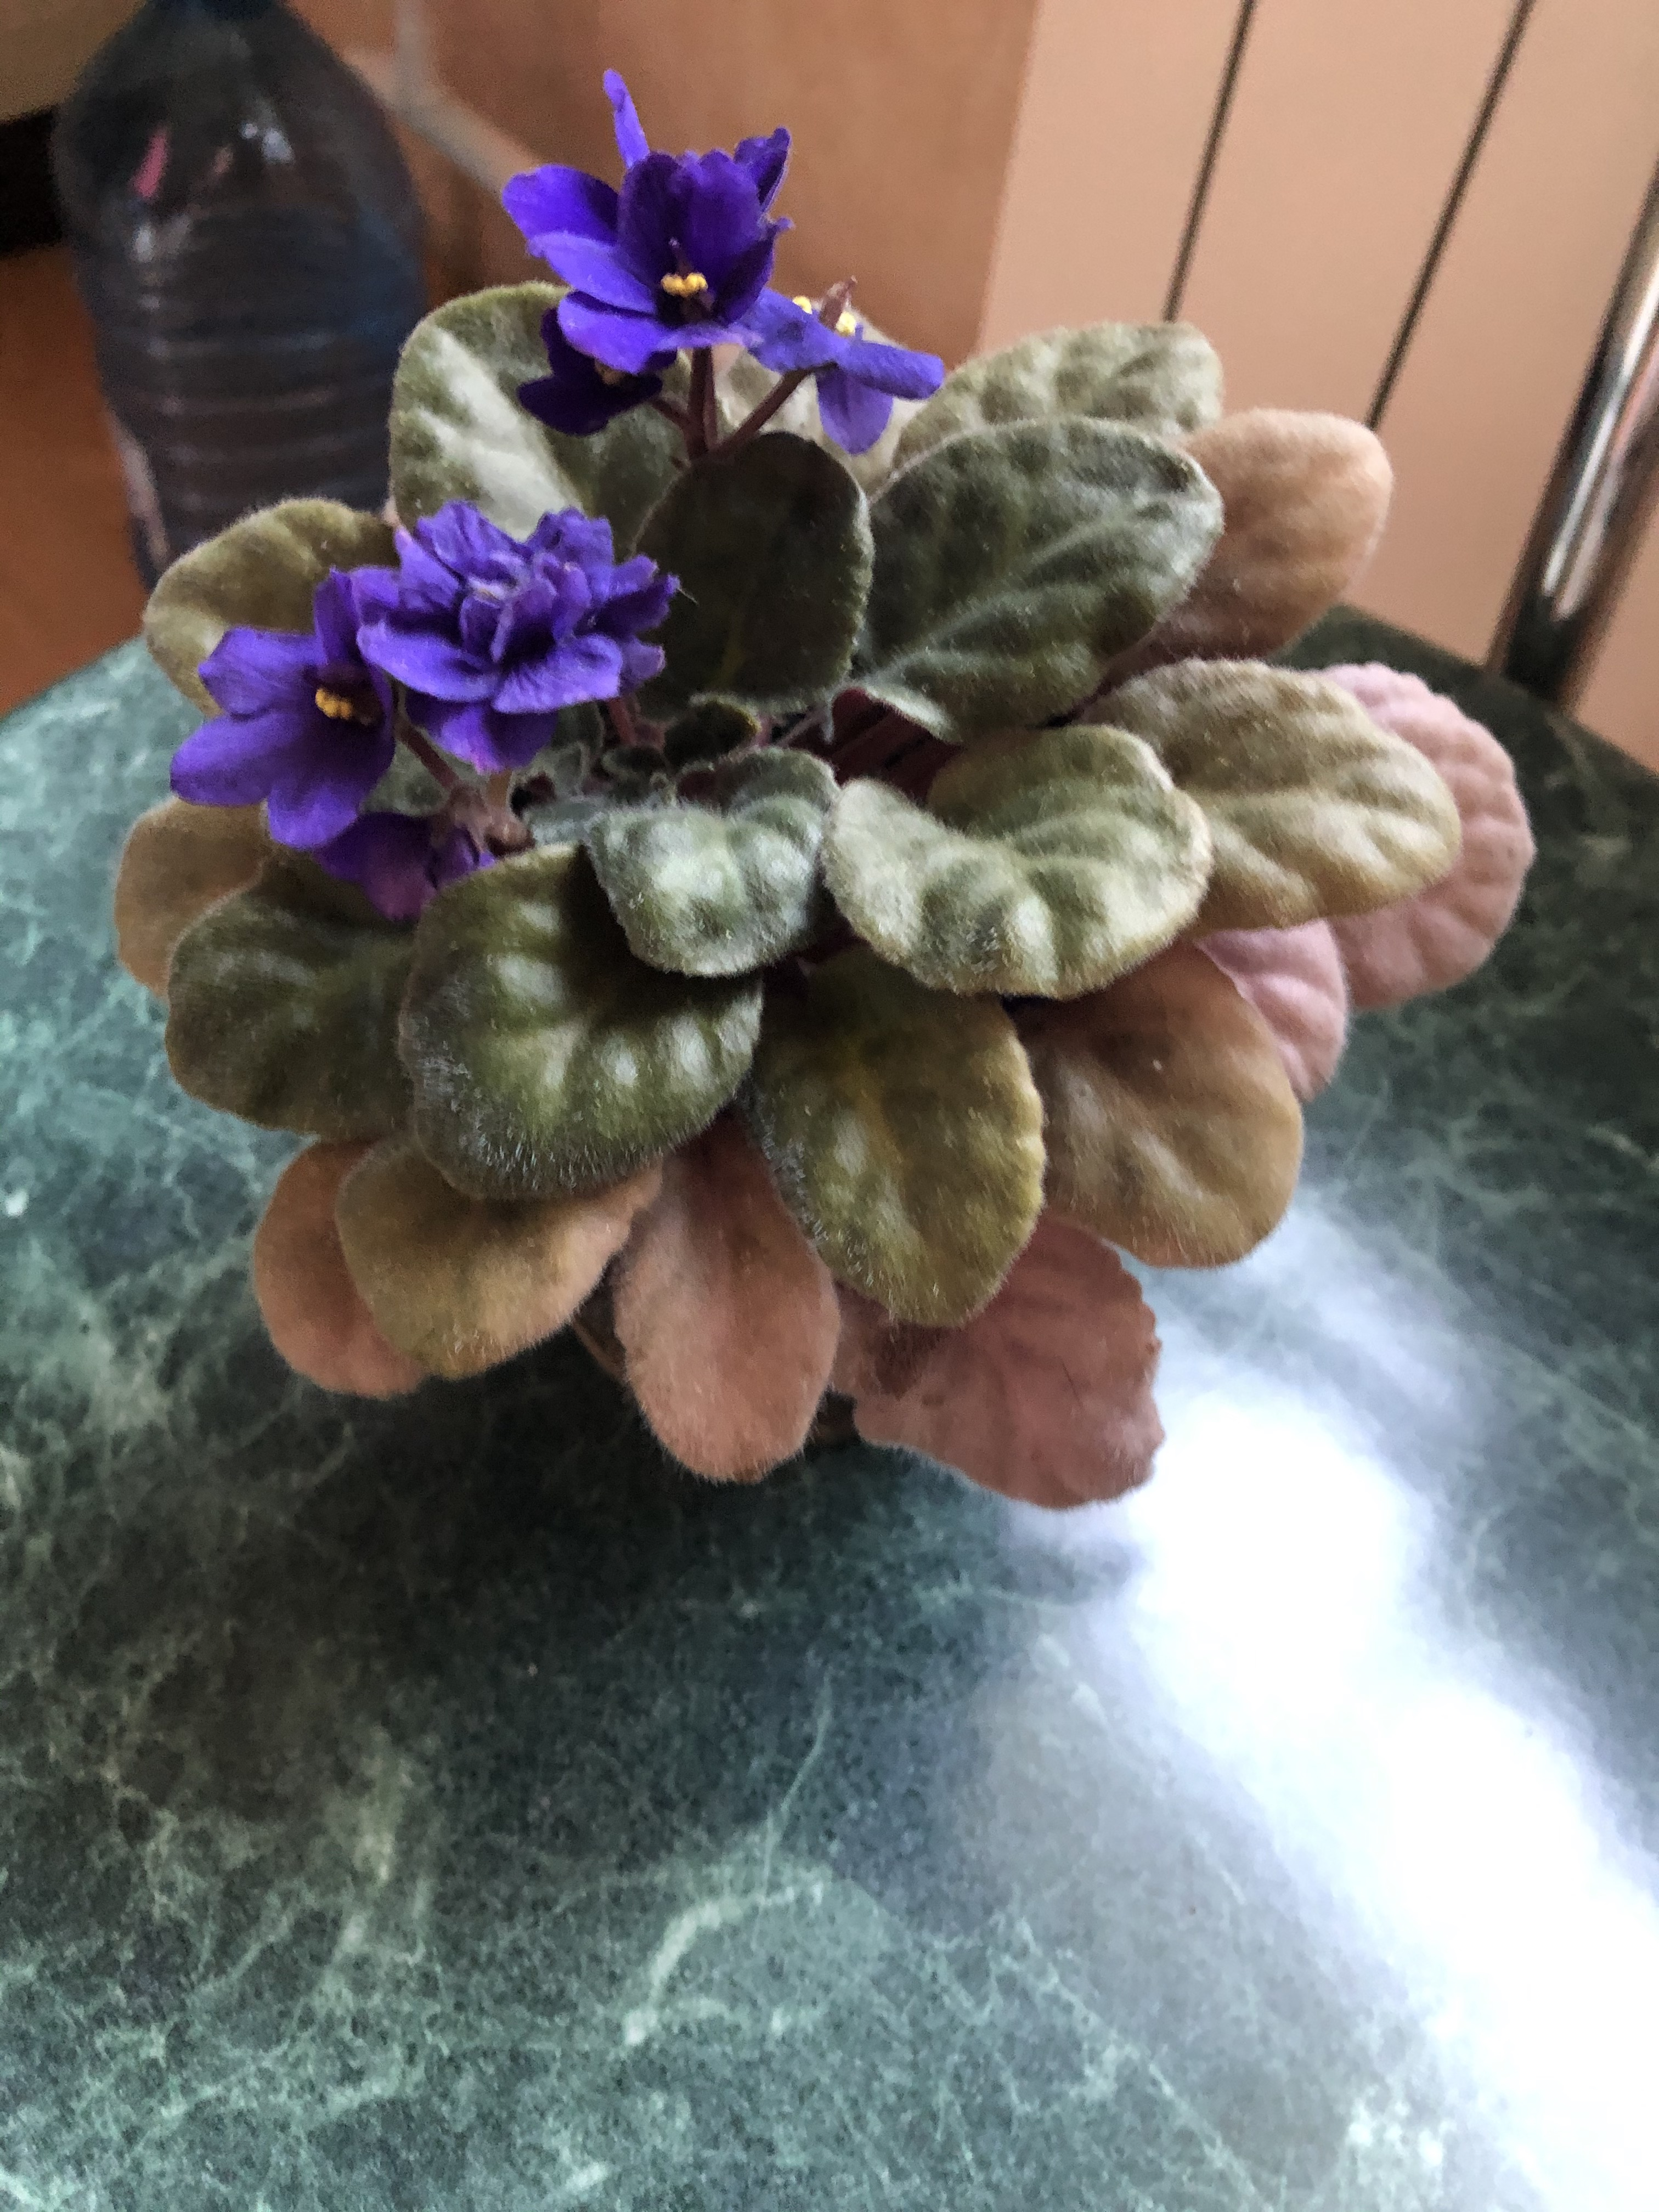ignore: (101, 19, 1547, 1595)
